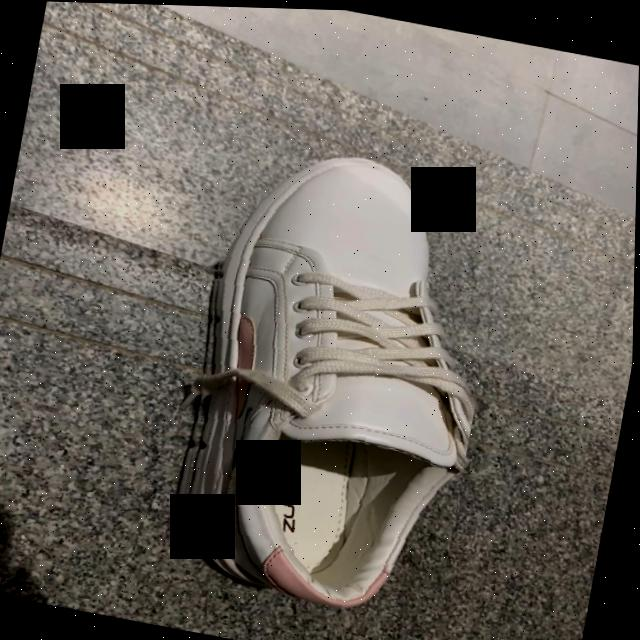shoe: (187, 156, 476, 608)
